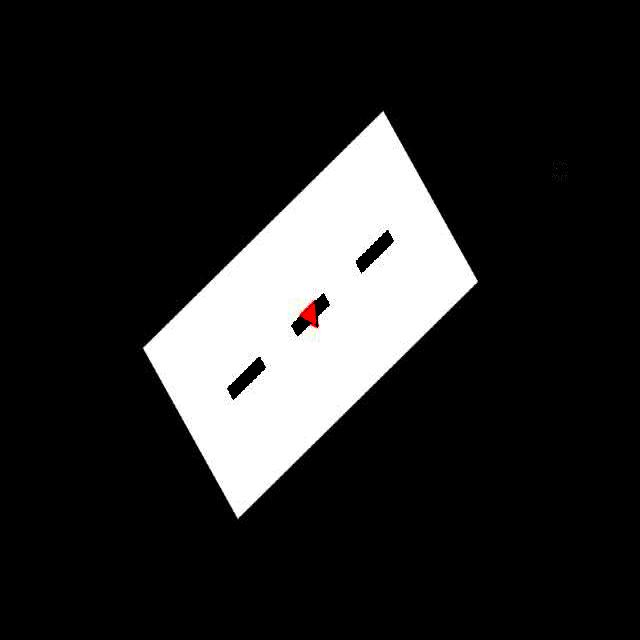red_triangle: (300, 301, 318, 330)
